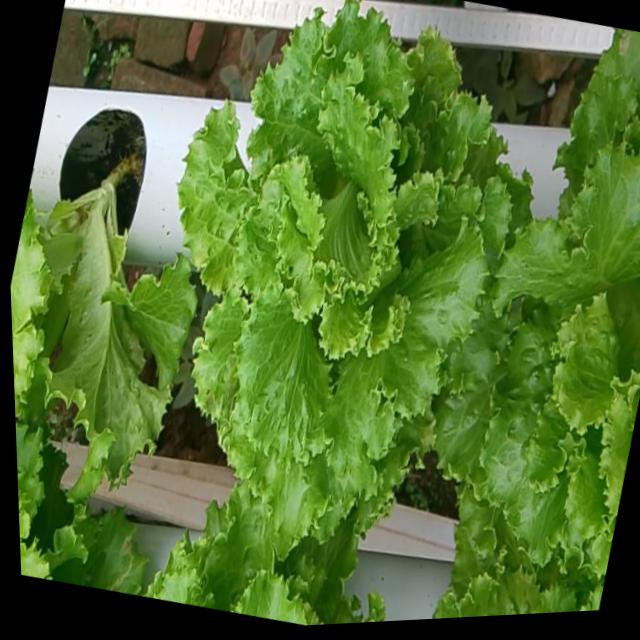Mature: (170, 0, 508, 543), (430, 130, 640, 563)
